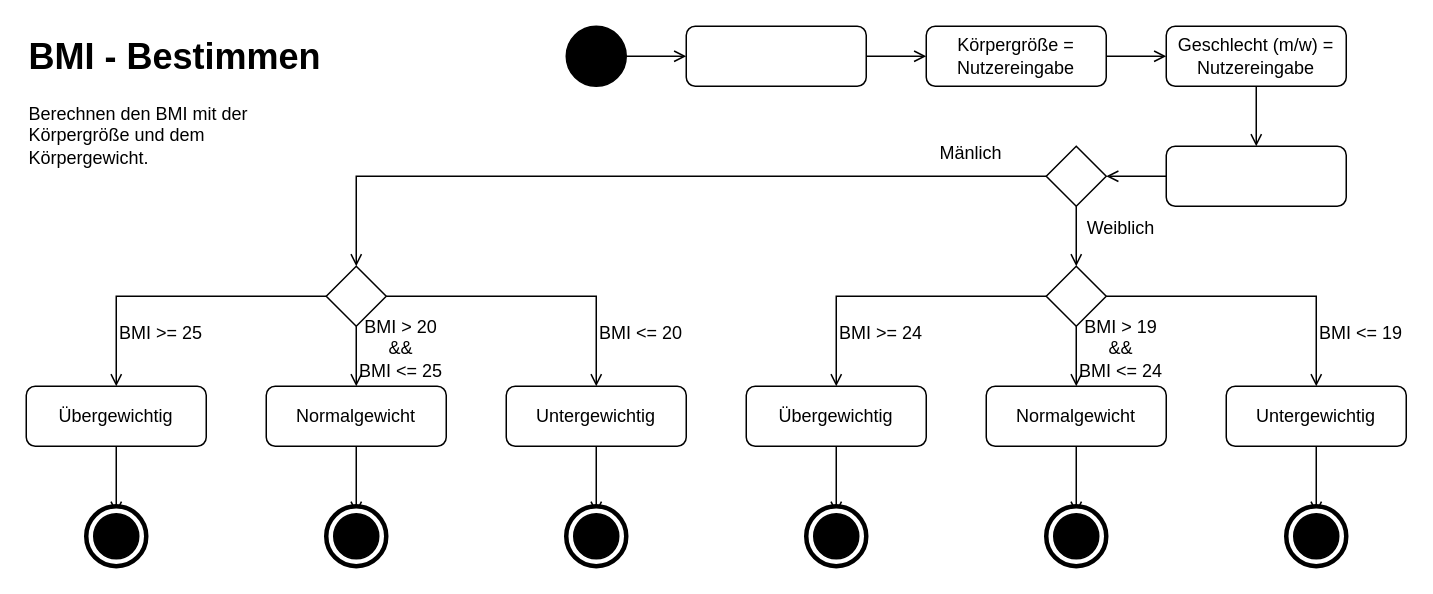
The diagram is 1433 pixels wide and 594 high, and some of its shapes have lost their labels. The centre of each missing label's shape, as x and y in pixels:
bmi = gewicht / (größe * größe): the point at 1255,175
Körpergewicht = Nutzereingabe: the point at 775,55
